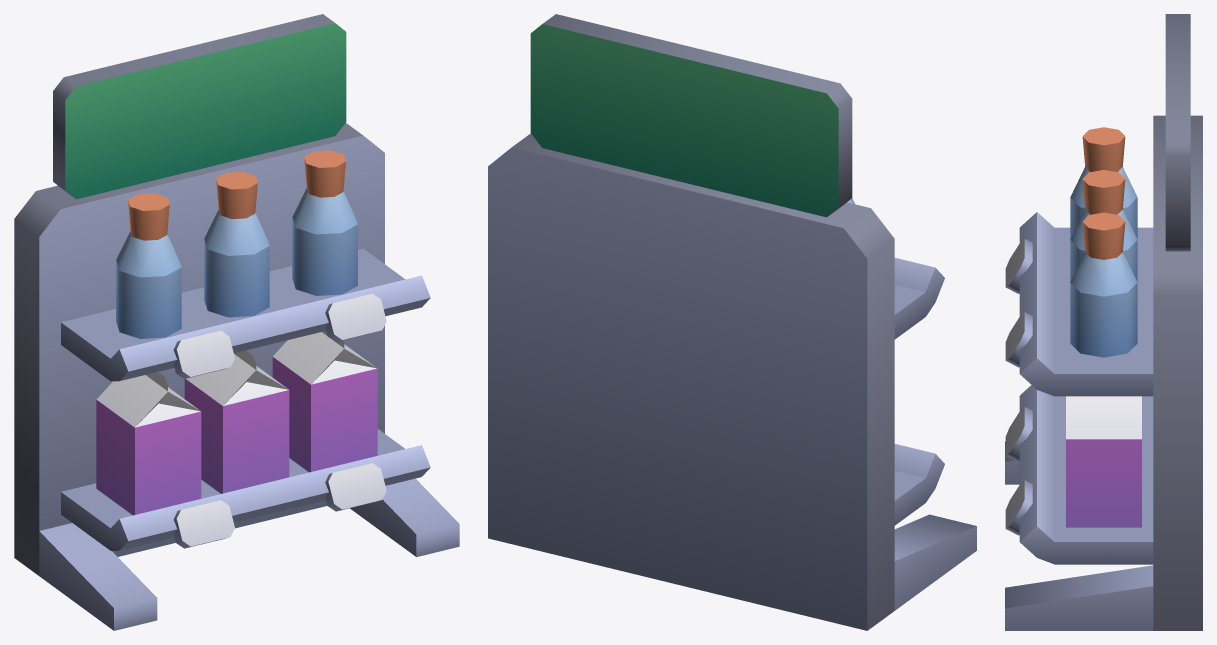
Rendered from shelf-end.glb.
3 views of the same model, side by side, from view 1: azimuth 30°, elevation 25°; view 2: azimuth 150°, elevation 25°; view 3: azimuth 270°, elevation 25° (orthographic). The views are drawn at different scales.
Visible parts, largest first — view 1: shelf-end, carton (×3), bottle (×3); view 2: shelf-end; view 3: shelf-end, bottle (×3), carton.
Boxes of the visible parts, <box> form: shelf-end: <box>14,14,459,630</box>; carton (×3): <box>96,331,377,515</box>; bottle (×3): <box>116,150,357,338</box>; shelf-end: <box>488,14,976,630</box>; shelf-end: <box>1005,14,1202,630</box>; bottle (×3): <box>1070,127,1137,357</box>; carton: <box>1066,396,1141,527</box>.
Size of the model in its own units: 0.8 by 1.05 by 0.4.
1 material, 1 textured.
